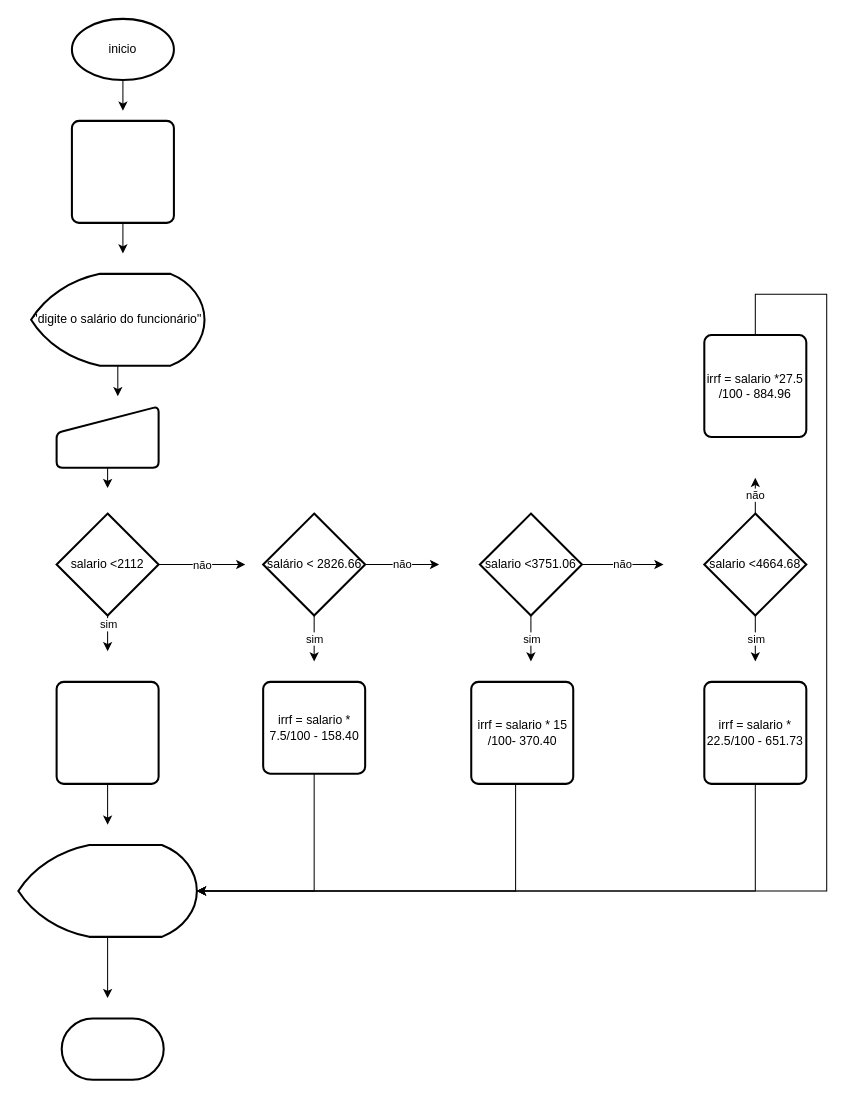
The diagram is 853 pixels wide and 1098 high, and some of its shapes have lost their labels. Here are the shapes that lost their labels. From the top down, the centre of each, then its label:
At pixel 122 171: "salario irrf".
At pixel 107 436: "salário".
At pixel 107 732: "irrf = 0".
At pixel 107 890: "o irrf (Imposto de Renda Retido na Fonte) é %.2f,irrf".
At pixel 112 1048: "fim".
